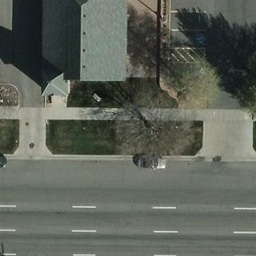car: (132, 153, 165, 169)
